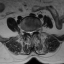CCS_normal: (30, 28, 32, 38)
LFS_stenosis: (34, 28, 36, 34)
LLS_normal: (32, 28, 34, 34)
RFS_stenosis: (26, 28, 28, 35)
RLS_stenosis: (28, 28, 30, 35)
